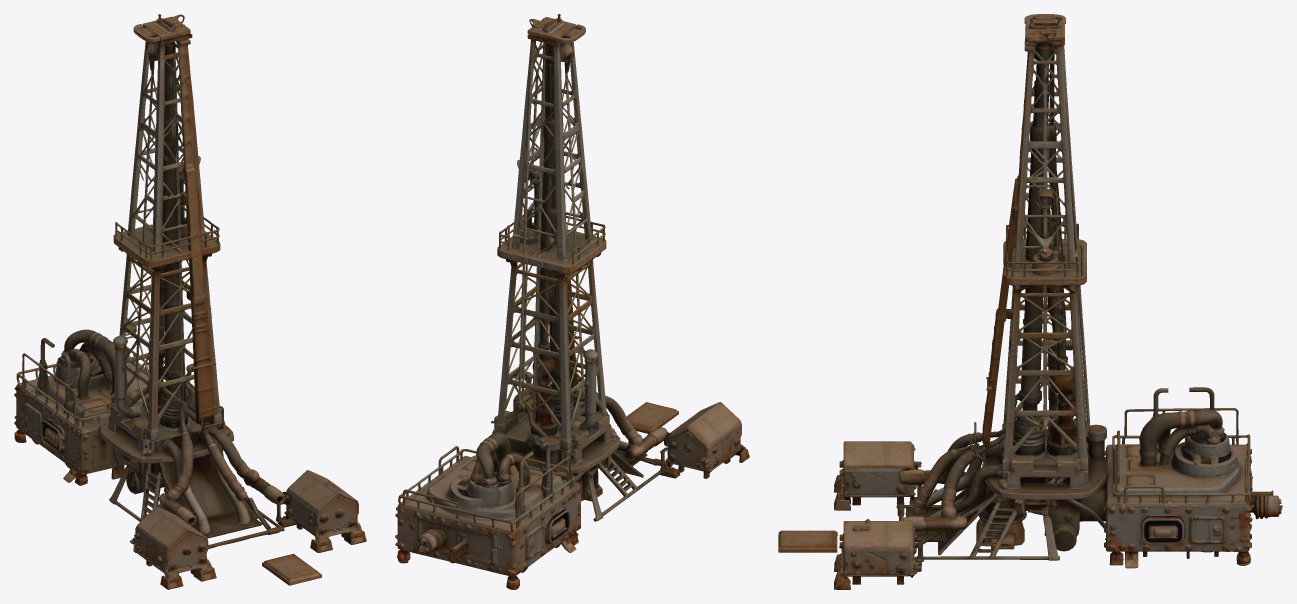
File: mars_drill.glb
3 views of the same model, side by side, from view 1: azimuth 30°, elevation 25°; view 2: azimuth 150°, elevation 25°; view 3: azimuth 270°, elevation 25° (orthographic). The views are drawn at different scales.
Visible parts, largest first — view 1: tripo_node_c288419b-7012-4e6f-b457-d5b16c349c3a; view 2: tripo_node_c288419b-7012-4e6f-b457-d5b16c349c3a; view 3: tripo_node_c288419b-7012-4e6f-b457-d5b16c349c3a.
Boxes of the visible parts, x1,y1,x2,y2 form: tripo_node_c288419b-7012-4e6f-b457-d5b16c349c3a: (14,14,366,589); tripo_node_c288419b-7012-4e6f-b457-d5b16c349c3a: (395,14,749,589); tripo_node_c288419b-7012-4e6f-b457-d5b16c349c3a: (778,14,1282,589).
Bounding box in the file's own units: 0.4298 × 0.9788 × 0.8654.
1 material, 1 textured.
